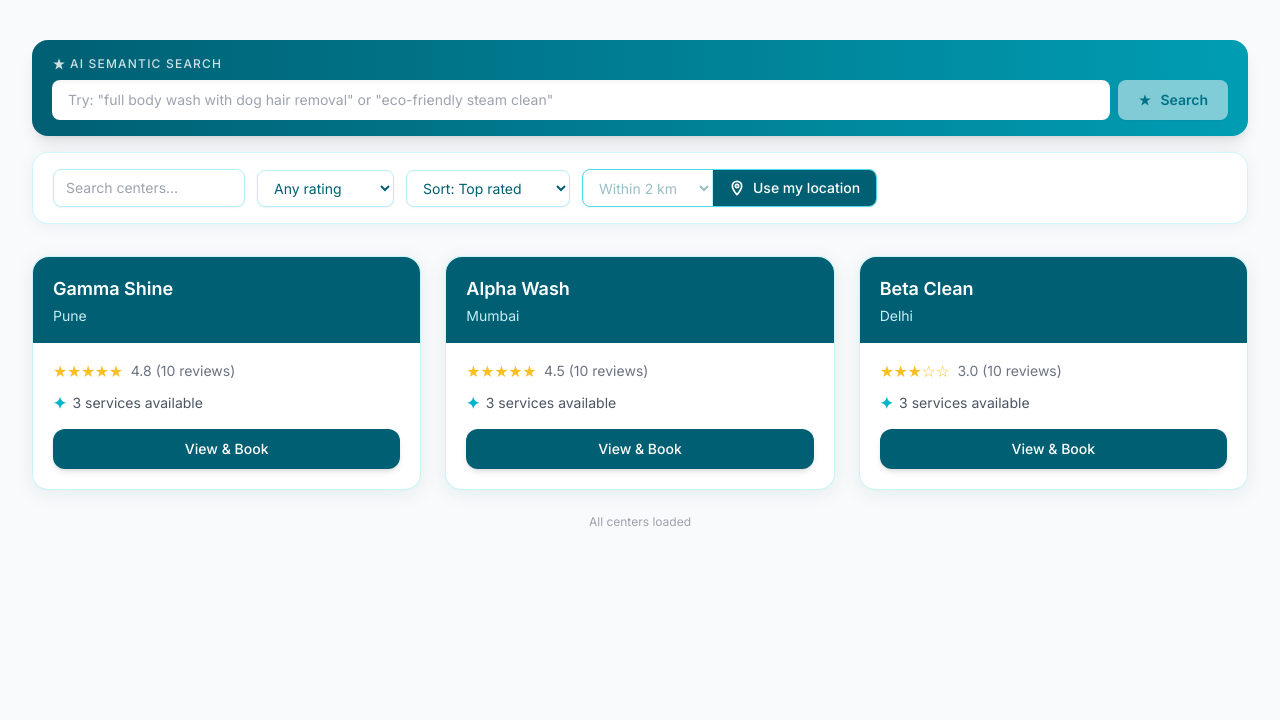
Test case: CentersListClient — text filter › matches by address as well as name
Type "delhi" into the search field. click: (149, 188)
box: [53,169,245,207]
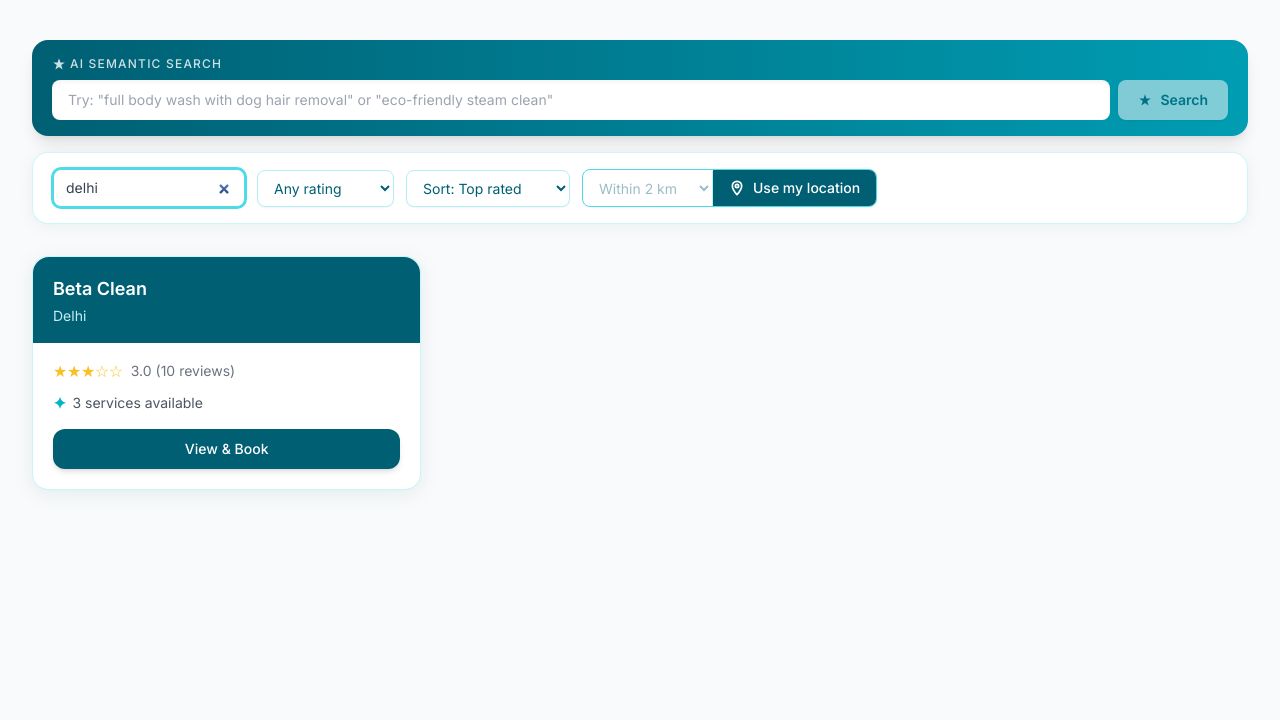
Expected: the heading "Beta Clean" is shown, [53,277,147,302]
Expected: the heading "Alpha Wash" is gone
